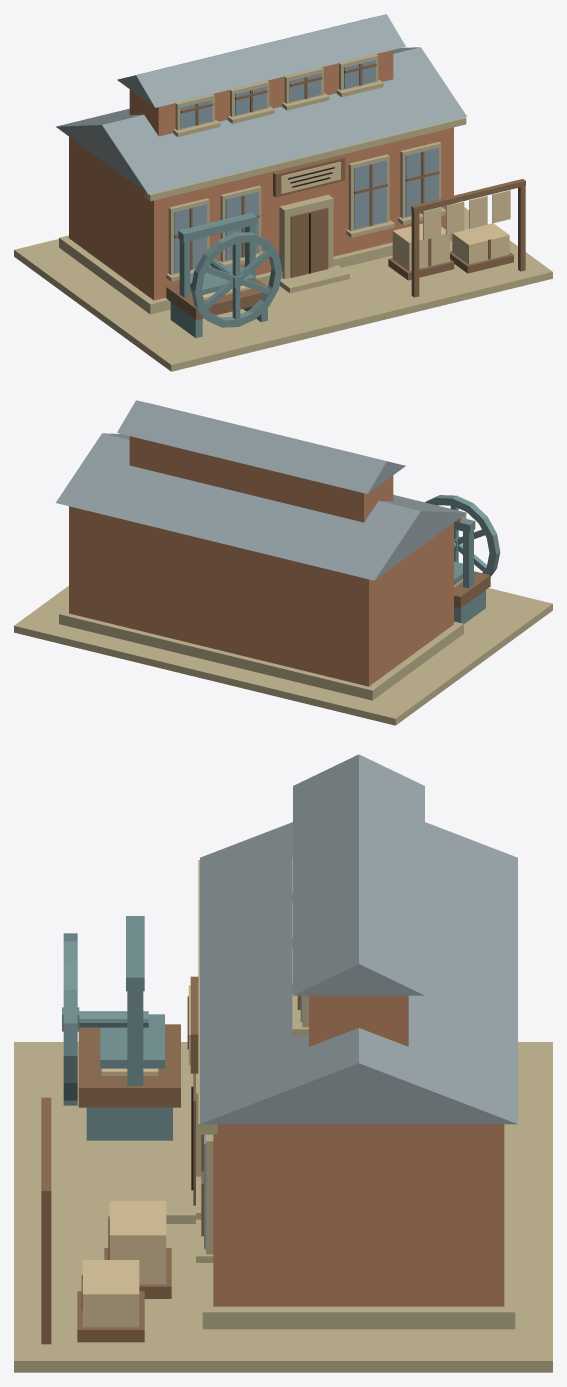
Rendered from era2-printworks-Dv63OEa3.glb.
3 views of the same model, one above another, from view 1: azimuth 30°, elevation 25°; view 2: azimuth 150°, elevation 25°; view 3: azimuth 270°, elevation 25° (orthographic). The views are drawn at different scales.
Visible parts, largest first — view 1: PressHall_Yard, PressHall_MainRoof, PressHall_Workroom, PressHall_LanternRoof, PressHall_Flywheel, PressHall_Clerestory, PressHall_Foundation, PressHall_Cornice, PressHallDoor, PressHall_Window2Glass, PressHall_PaperStack1, PressHallPortal (+33 smaller); view 2: PressHall_Workroom, PressHall_MainRoof, PressHall_Yard, PressHall_LanternRoof, PressHall_Clerestory, PressHall_Foundation, PressHall_Flywheel, PressHall_PressBed, PressHall_PressUpright, PressHall_PressLeg; view 3: PressHall_MainRoof, PressHall_Yard, PressHall_Workroom, PressHall_LanternRoof, PressHall_Foundation, PressHall_PressBed, PressHall_Clerestory, PressHall_PaperStack0, PressHall_PaperStack1, PressHall_PressLeg.001, PressHall_Flywheel, PressHall_Platen (+11 smaller).
Boxes of the visible parts, x1,y1,x2,y2 form: PressHall_Yard: (14, 202, 552, 371); PressHall_MainRoof: (56, 47, 466, 194); PressHall_Workroom: (69, 127, 453, 300); PressHall_LanternRoof: (117, 14, 405, 107); PressHall_Flywheel: (191, 232, 282, 327); PressHall_Clerestory: (129, 50, 393, 136); PressHall_Foundation: (59, 229, 452, 314); PressHall_Cornice: (144, 117, 466, 201); PressHallDoor: (290, 207, 328, 277); PressHall_Window2Glass: (354, 160, 386, 229); PressHall_PaperStack1: (452, 223, 509, 264); PressHallPortal: (279, 194, 333, 278); PressHall_Workroom: (69, 506, 453, 686); PressHall_MainRoof: (56, 433, 466, 580); PressHall_Yard: (14, 586, 552, 725); PressHall_LanternRoof: (117, 400, 405, 493); PressHall_Clerestory: (129, 436, 393, 522); PressHall_Foundation: (59, 607, 463, 700); PressHall_Flywheel: (425, 495, 500, 576); PressHall_PressBed: (454, 571, 490, 608); PressHall_PressUpright: (463, 530, 473, 588); PressHall_PressLeg: (454, 590, 485, 623); PressHall_MainRoof: (200, 822, 517, 1124); PressHall_Yard: (14, 1042, 552, 1372); PressHall_Workroom: (213, 1124, 504, 1306); PressHall_LanternRoof: (293, 754, 424, 995); PressHall_Foundation: (202, 1124, 515, 1329); PressHall_PressBed: (78, 1024, 180, 1107); PressHall_Clerestory: (309, 995, 408, 1046); PressHall_PaperStack0: (109, 1201, 166, 1284); PressHall_PaperStack1: (82, 1260, 139, 1327); PressHall_PressLeg.001: (86, 1107, 172, 1140); PressHall_Flywheel: (62, 933, 79, 1105); PressHall_Platen: (100, 1014, 164, 1068).
Bounding box in the file's own units: 14 × 7.25 × 10.
